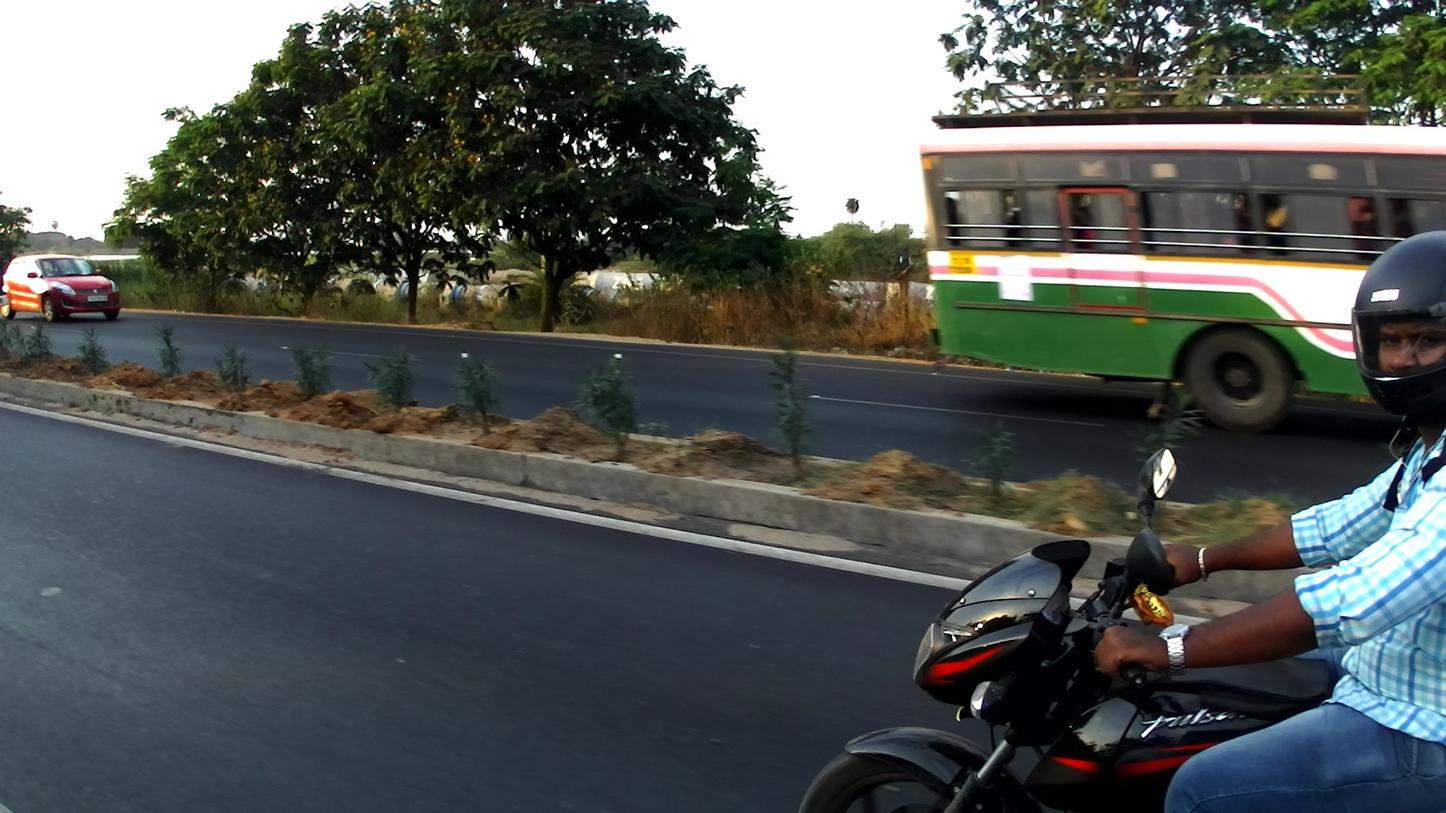bus: (920, 70, 1446, 437)
car: (2, 255, 124, 321)
motorcycle: (796, 444, 1379, 812)
rider: (1098, 230, 1446, 813)
